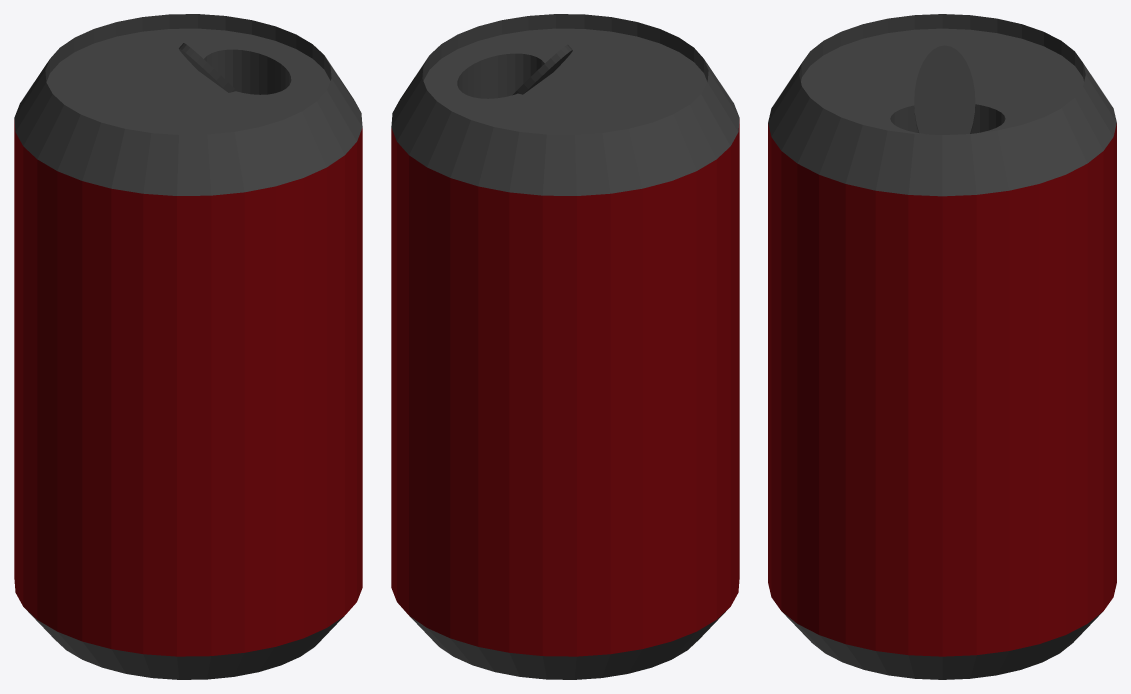
File: sodaCan.dae
The picture shows the model from 3 angles, left to right: view 1: azimuth 30°, elevation 25°; view 2: azimuth 150°, elevation 25°; view 3: azimuth 270°, elevation 25°; orthographic projection.
Visible parts, largest first — view 1: sodaCan; view 2: sodaCan; view 3: sodaCan.
Boxes of the visible parts, x1,y1,x2,y2 form: sodaCan: (14,14,362,679); sodaCan: (391,14,739,679); sodaCan: (768,14,1116,679).
Size of the model in its own units: 2 by 3.64 by 2.
